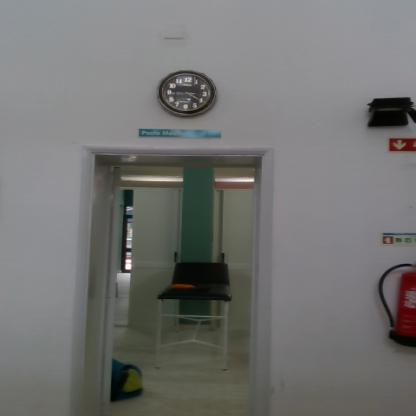open: (69, 142, 278, 404)
